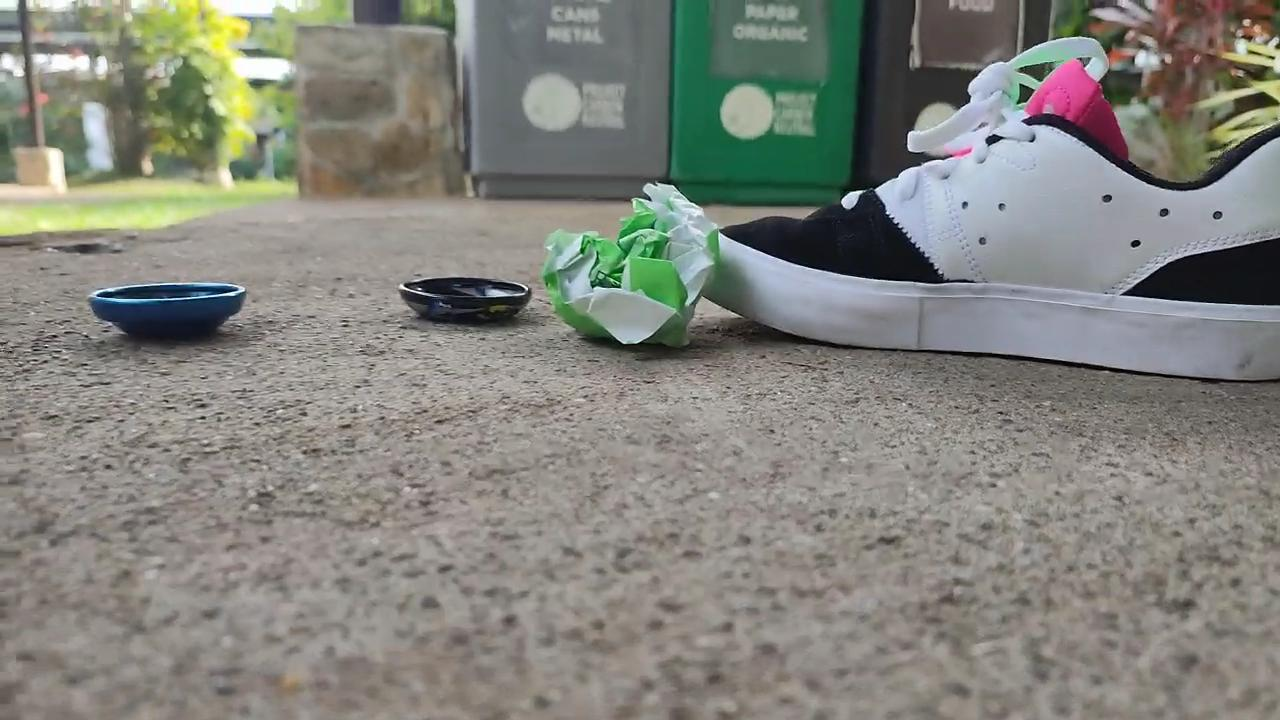Paper: (532, 172, 726, 367)
